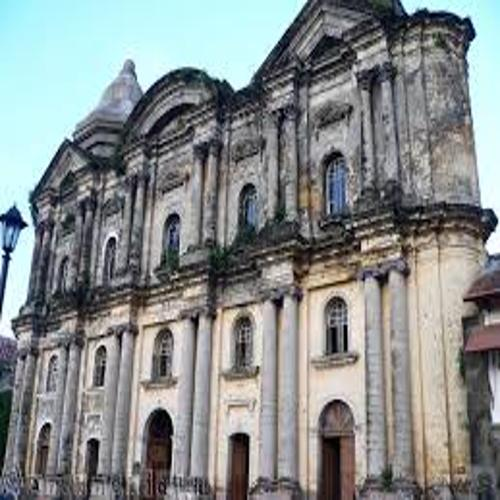Taal Basilica Church: (6, 1, 500, 500)
